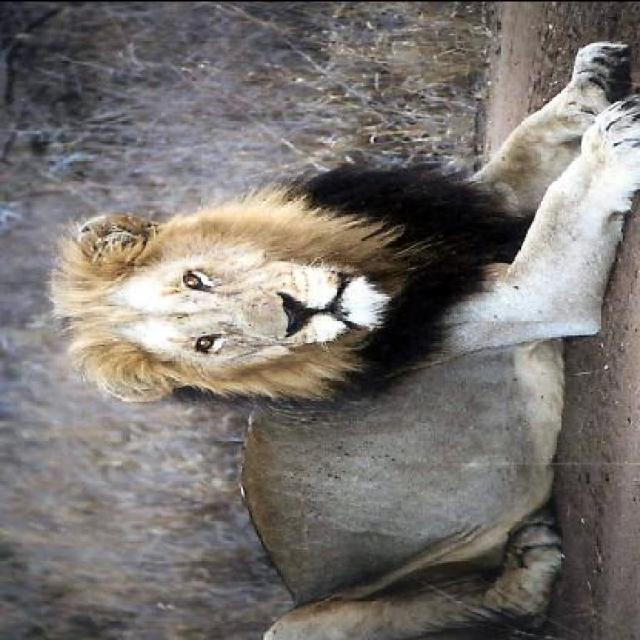Lion: (36, 3, 638, 637)
